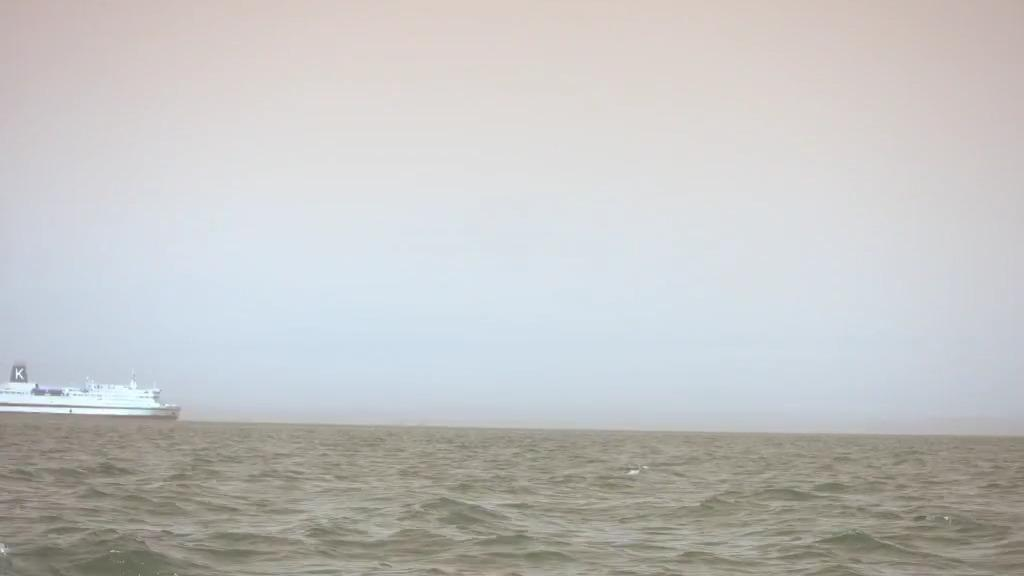PassengerShip: (0, 362, 190, 422)
